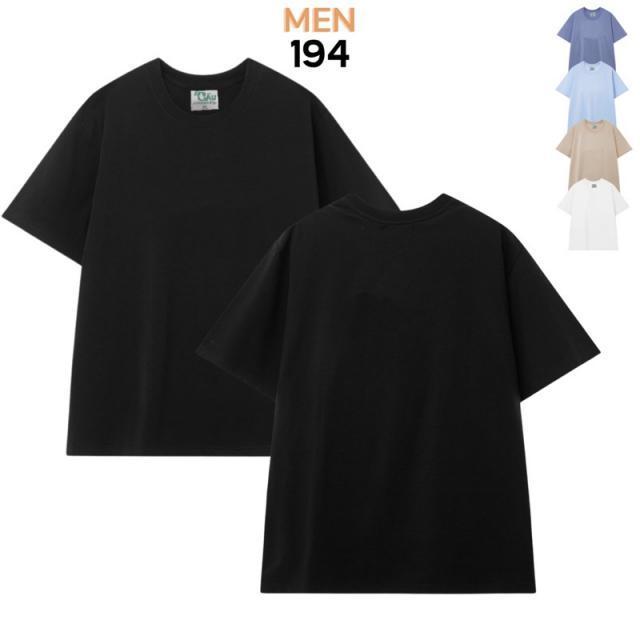Shirt: (221, 192, 608, 608), (7, 51, 398, 456)
